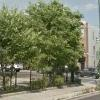Tree: (13, 0, 97, 79)
